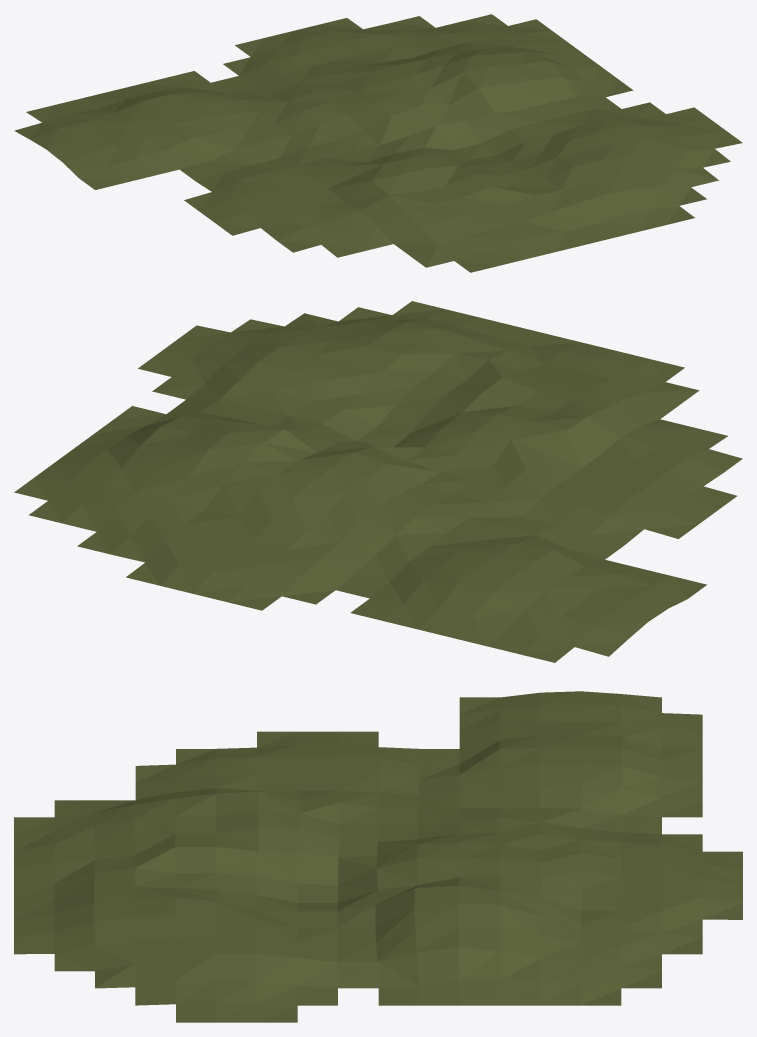
File: SM_Env_GroundMounds_06.gltf
The picture shows the model from 3 angles, top to bottom: view 1: azimuth 30°, elevation 25°; view 2: azimuth 150°, elevation 25°; view 3: azimuth 270°, elevation 25°; orthographic projection. The views are drawn at different scales.
Visible parts, largest first — view 1: SM_Env_GroundMounds_06; view 2: SM_Env_GroundMounds_06; view 3: SM_Env_GroundMounds_06.
Boxes of the visible parts, x1,y1,x2,y2 form: SM_Env_GroundMounds_06: (14,14,742,272); SM_Env_GroundMounds_06: (14,301,742,662); SM_Env_GroundMounds_06: (14,691,742,1022).
Size of the model in its own units: 7.71 by 0.3828 by 7.31.
1 material, 1 textured.
